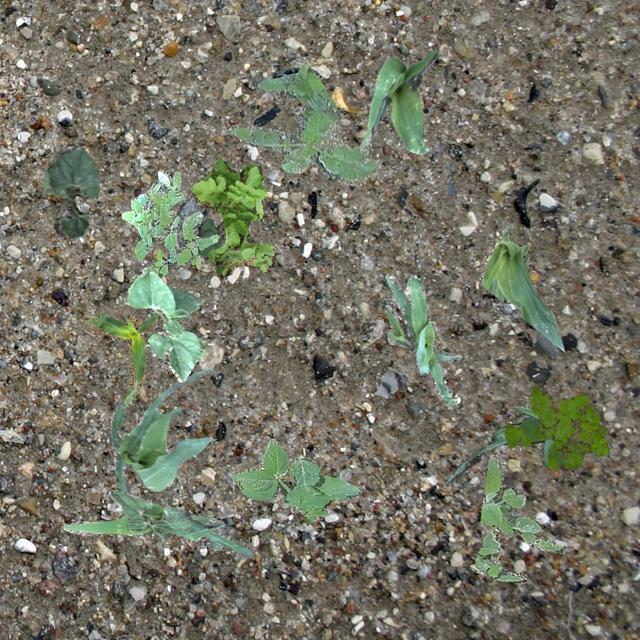crop: (110, 368, 213, 493), (62, 502, 252, 558), (479, 224, 563, 350), (384, 272, 461, 408), (123, 266, 204, 380), (443, 404, 552, 484), (358, 48, 437, 154), (78, 312, 160, 406), (42, 146, 98, 237), (112, 490, 190, 540), (197, 218, 224, 258)
weed: (228, 64, 379, 185), (472, 452, 566, 582), (230, 438, 358, 522), (190, 156, 276, 278), (120, 170, 218, 274), (504, 382, 608, 470)
